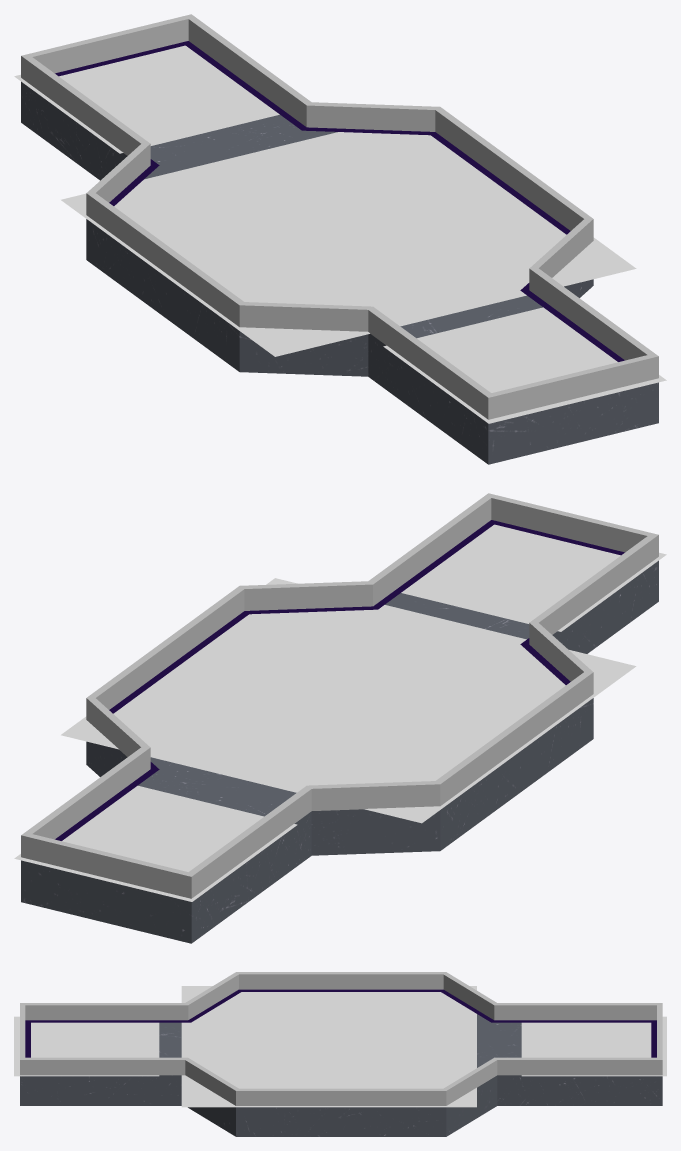
File: Boss_Stage 1.fbx
The picture shows the model from 3 angles, top to bottom: view 1: azimuth 30°, elevation 25°; view 2: azimuth 150°, elevation 25°; view 3: azimuth 270°, elevation 25°; orthographic projection. The views are drawn at different scales.
Parts seen in each view (by area): view 1: Plane.045, MiddleGround.001, MiddleGround, Plane.041, Plane.040, MiddleGround.003; view 2: Plane.045, MiddleGround.001, MiddleGround, Plane.040, Plane.041, MiddleGround.003; view 3: Plane.045, MiddleGround.001, MiddleGround, Plane.041, Plane.040, MiddleGround.003.
Part boxes in pixels (left/top/right/bottom): Plane.045: left=61, top=132, right=636, bottom=356; MiddleGround.001: left=21, top=14, right=658, bottom=419; MiddleGround: left=21, top=81, right=658, bottom=464; Plane.041: left=14, top=45, right=279, bottom=153; Plane.040: left=383, top=307, right=666, bottom=423; MiddleGround.003: left=55, top=41, right=624, bottom=361; Plane.045: left=61, top=578, right=636, bottom=823; MiddleGround.001: left=21, top=493, right=658, bottom=898; MiddleGround: left=21, top=560, right=658, bottom=943; Plane.040: left=401, top=524, right=666, bottom=631; Plane.041: left=14, top=785, right=297, bottom=901; MiddleGround.003: left=55, top=520, right=624, bottom=840; Plane.045: left=181, top=986, right=476, bottom=1107; MiddleGround.001: left=20, top=972, right=662, bottom=1105; MiddleGround: left=20, top=1014, right=662, bottom=1136; Plane.041: left=521, top=1016, right=666, bottom=1076; Plane.040: left=14, top=1016, right=159, bottom=1076; MiddleGround.003: left=25, top=989, right=656, bottom=1057.
Size of the model in its own units: 2546 by 450 by 5791.
